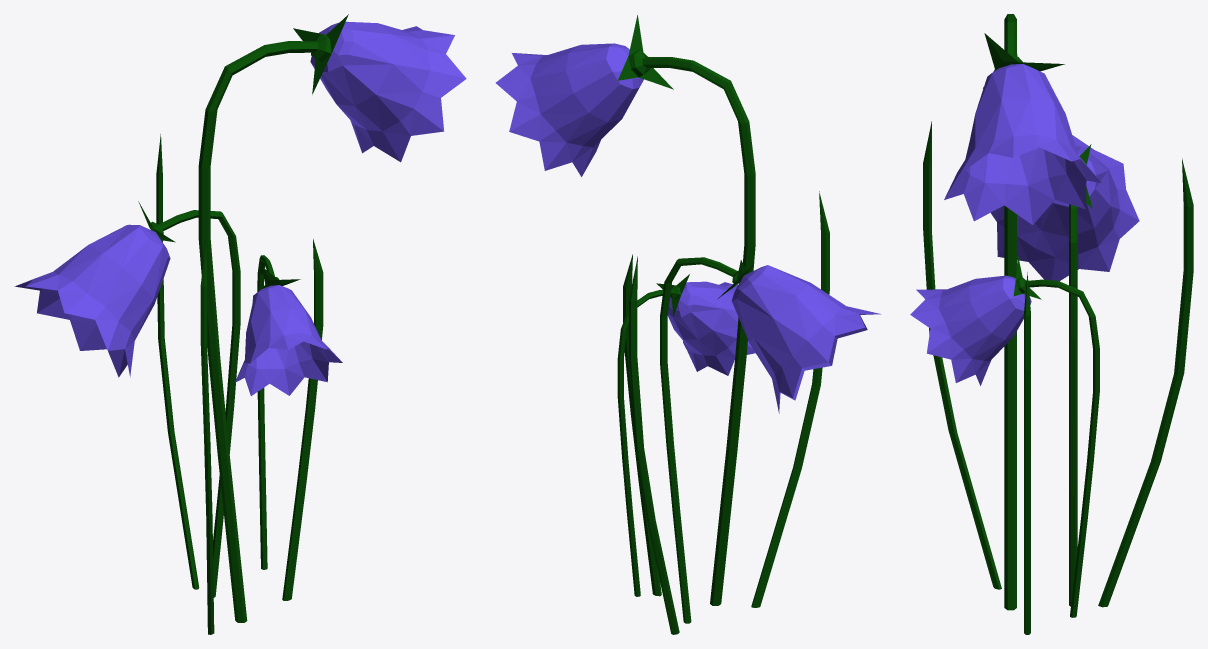
The model's file is flower.fbx.
3 renders of one model, left to right at view 1: azimuth 30°, elevation 25°; view 2: azimuth 150°, elevation 25°; view 3: azimuth 270°, elevation 25°, orthographic. The views are drawn at different scales.
Visible parts, largest first — view 1: Sphere.001, Sphere, Cylinder.001, Sphere.002, Cylinder.002, Cylinder.003, Cylinder.005, Cylinder.004, Cylinder; view 2: Sphere.001, Sphere, Cylinder.001, Sphere.002, Cylinder.002, Cylinder.005, Cylinder.004, Cylinder, Cylinder.003; view 3: Sphere.001, Sphere, Sphere.002, Cylinder.001, Cylinder.005, Cylinder.002, Cylinder.004, Cylinder, Cylinder.003.
Boxes of the visible parts, <box> form: Sphere.001: <box>310,21,466,162</box>; Sphere: <box>14,224,170,377</box>; Cylinder.001: <box>198,14,348,622</box>; Sphere.002: <box>235,285,342,395</box>; Cylinder.002: <box>138,201,240,597</box>; Cylinder.003: <box>282,239,323,600</box>; Cylinder.005: <box>156,134,199,589</box>; Cylinder.004: <box>200,239,214,634</box>; Cylinder: <box>257,255,300,569</box>; Sphere.001: <box>495,43,643,176</box>; Sphere: <box>731,265,880,413</box>; Cylinder.001: <box>618,15,755,605</box>; Sphere.002: <box>668,281,755,375</box>; Cylinder.002: <box>660,257,753,623</box>; Cylinder.005: <box>629,256,679,634</box>; Cylinder.004: <box>751,191,829,607</box>; Cylinder: <box>617,274,689,596</box>; Cylinder.003: <box>623,254,661,596</box>; Sphere.001: <box>944,64,1101,224</box>; Sphere: <box>991,135,1139,281</box>; Sphere.002: <box>910,275,1031,385</box>; Cylinder.001: <box>983,14,1064,610</box>; Cylinder.005: <box>1098,158,1193,607</box>; Cylinder.002: <box>1069,144,1092,606</box>; Cylinder.004: <box>923,121,1001,589</box>; Cylinder: <box>1013,256,1099,617</box>; Cylinder.003: <box>1024,272,1030,634</box>.
Size of the model in its own units: 701 by 987 by 406.
